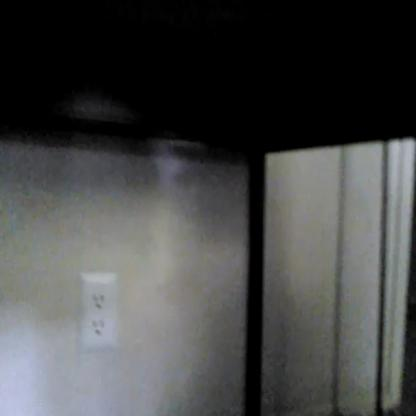OUTLET: (81, 272, 117, 349)
